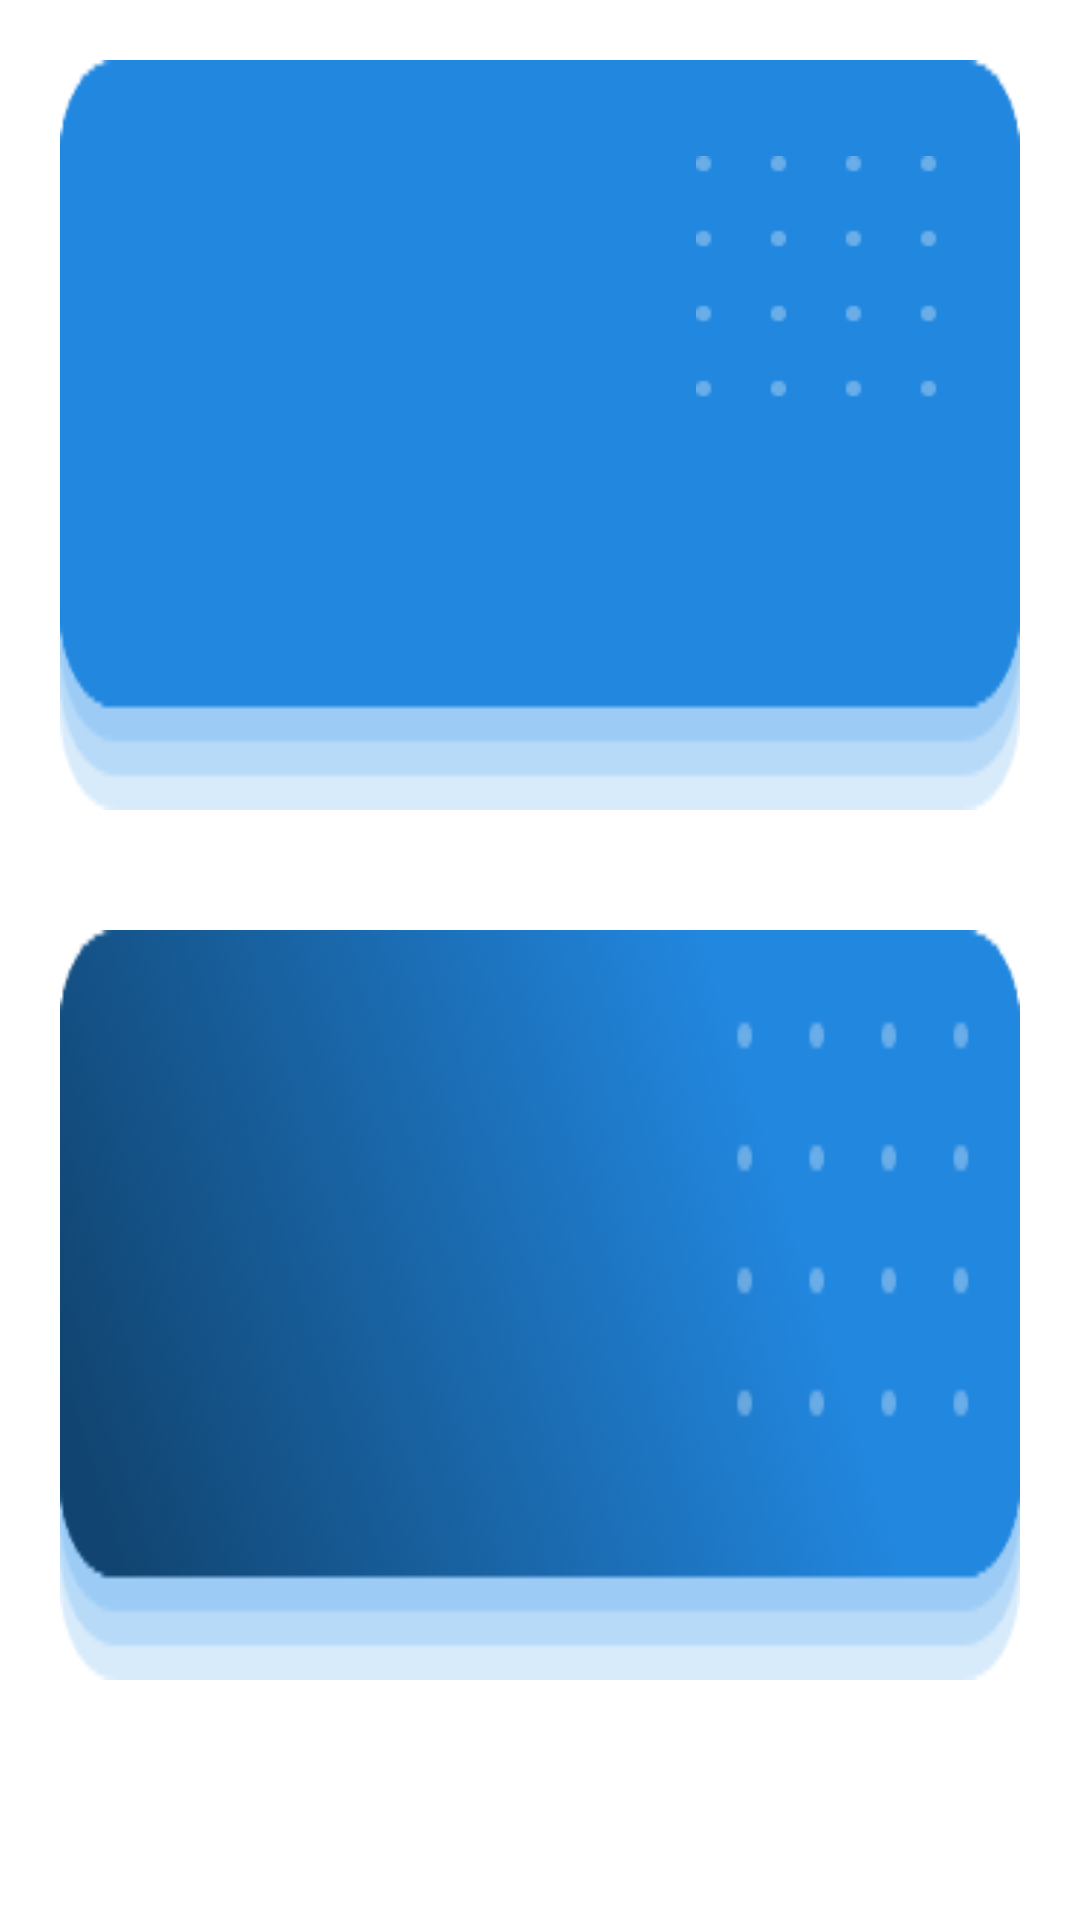

Named icons in this screenshot (1080 × 1920) and their centers, (x,y):
circle grid: (816,276)
